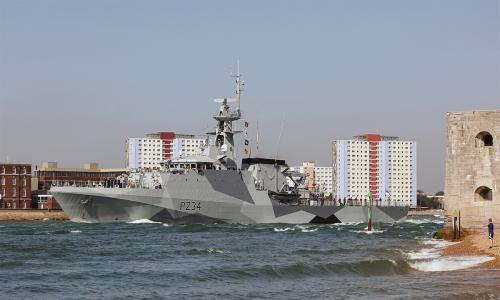MIL_Ship: (45, 59, 412, 227)
